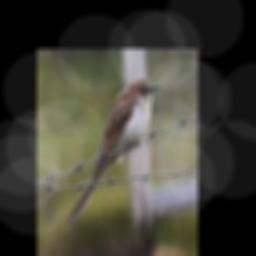Cuckoo: (62, 78, 161, 231)
